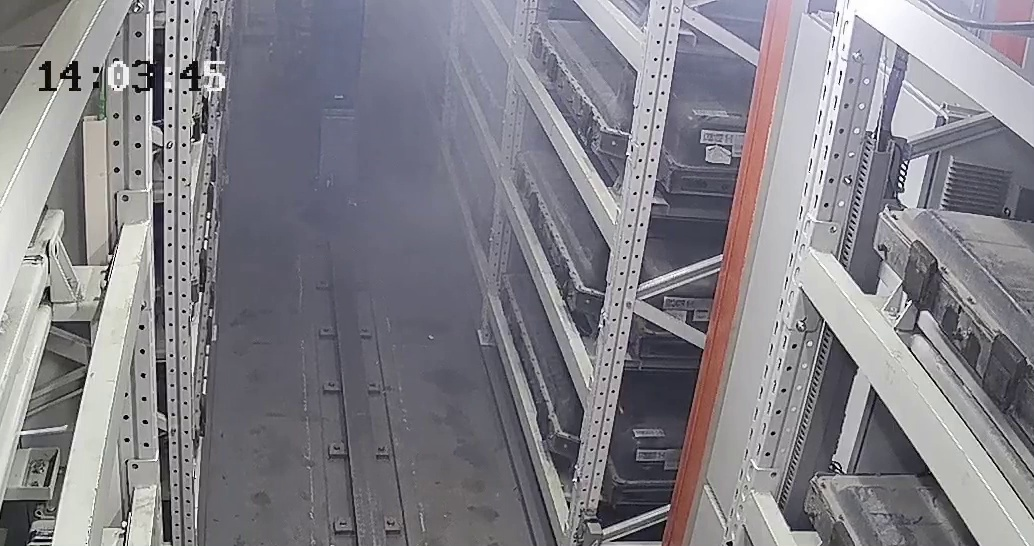smoke: (361, 16, 484, 236)
